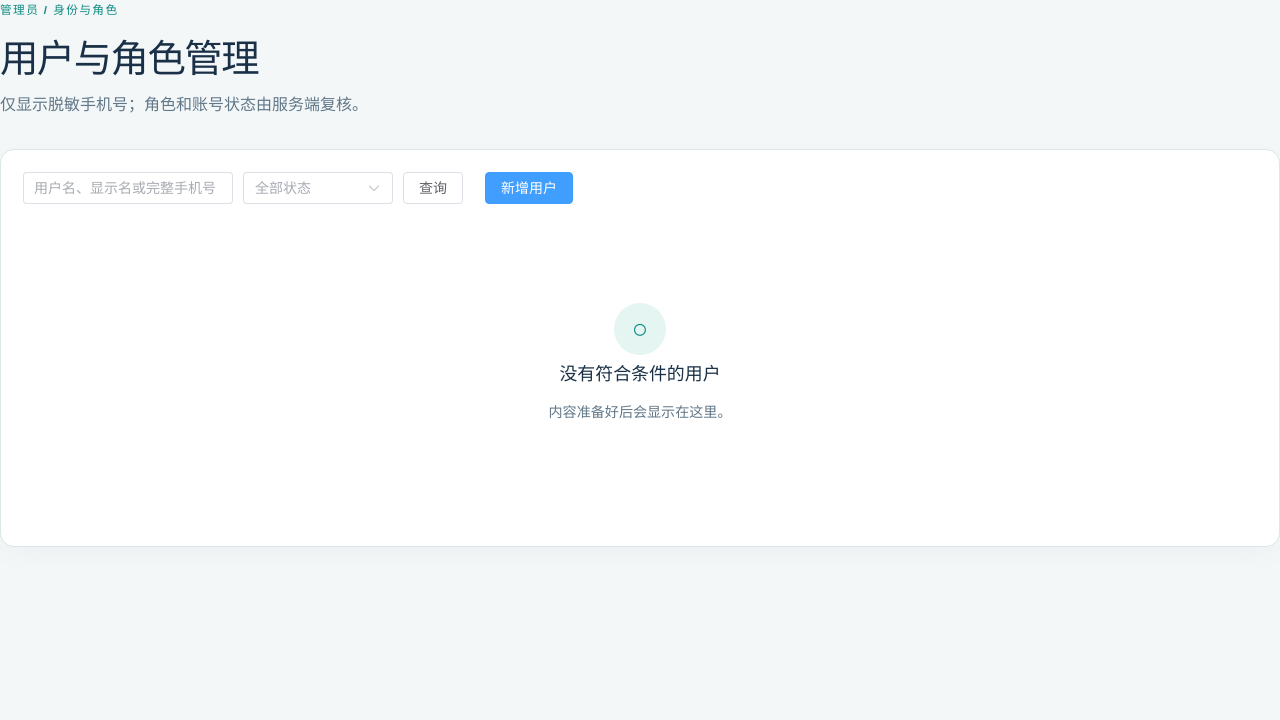
UsersView new user roles › does not create an elevated account if confirmation is cancelled and resets the next form
This screenshot has width=1280, height=720.
Click the button "新增用户" at (529, 188), box [485,172,573,204]
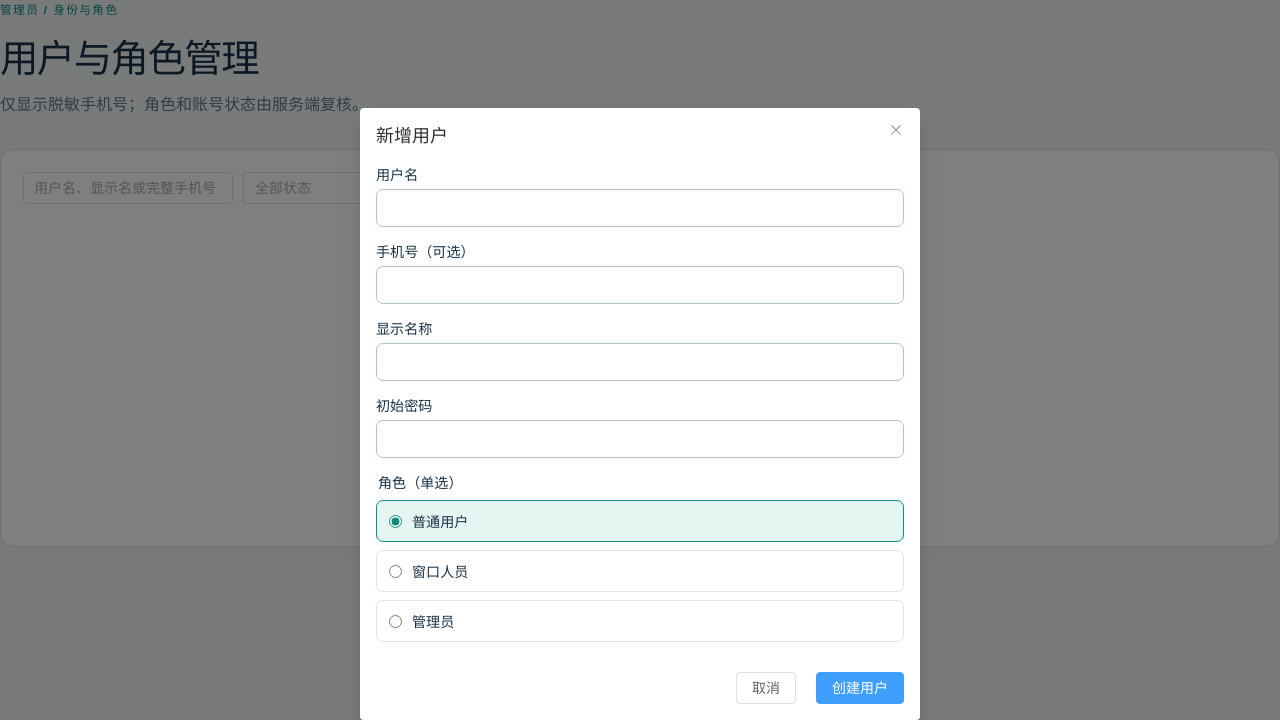
Type "demo_account" into the field labelled "用户名" at (640, 208), box [376,189,904,227]
Type "演示账号" into the field labelled "显示名称" at (640, 362), box [376,343,904,381]
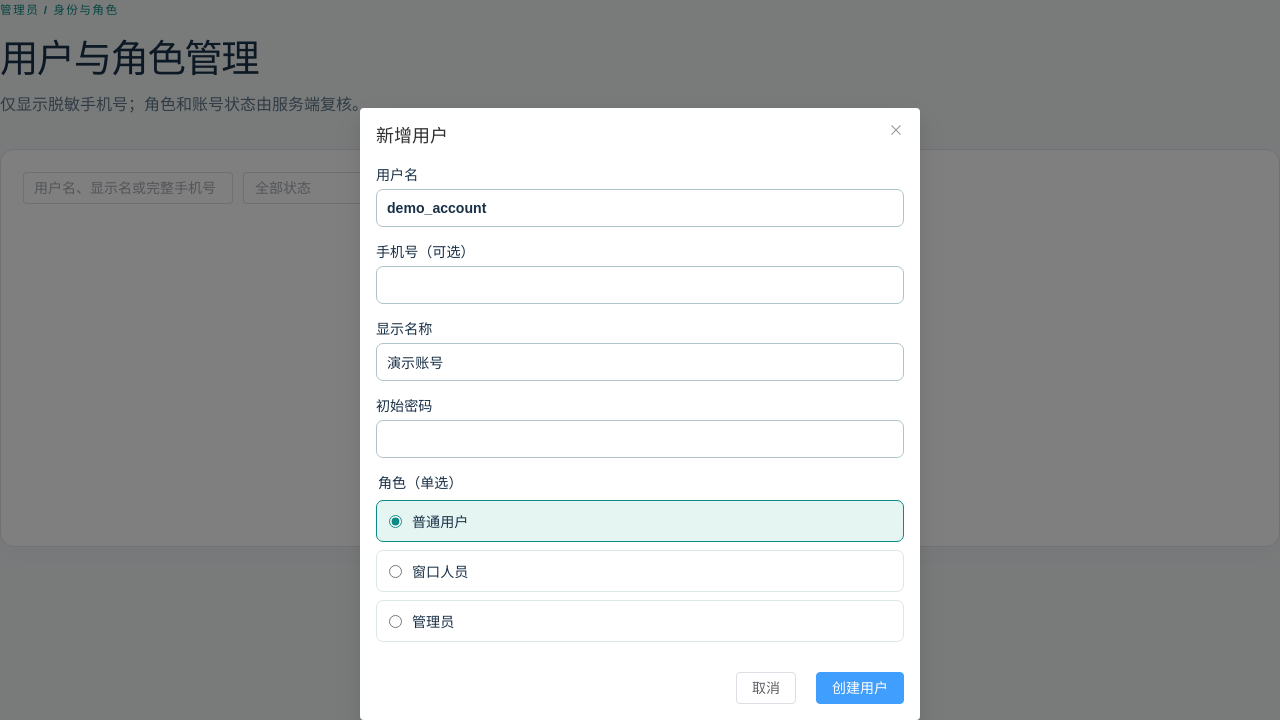
Type "fixture-password" into the password field labelled "初始密码" at (640, 439), box [376,420,904,458]
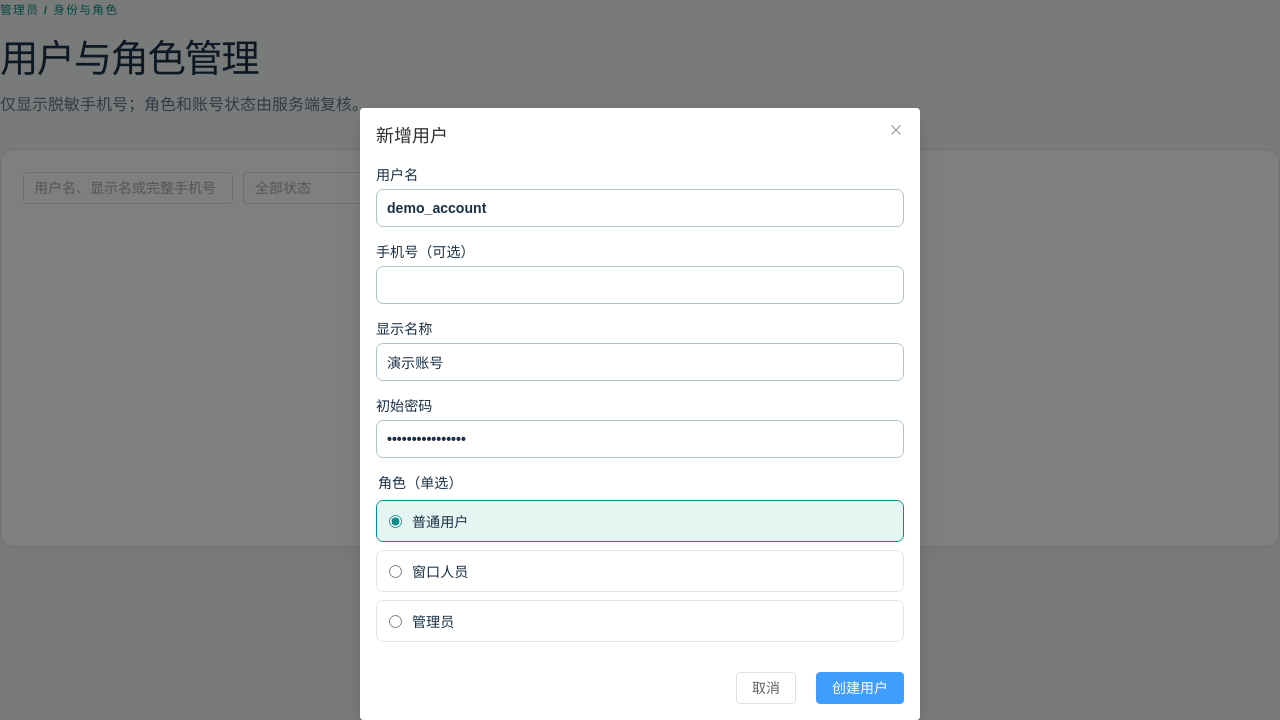
Click the radio button labelled "窗口人员" at (396, 571), box [389,564,402,578]
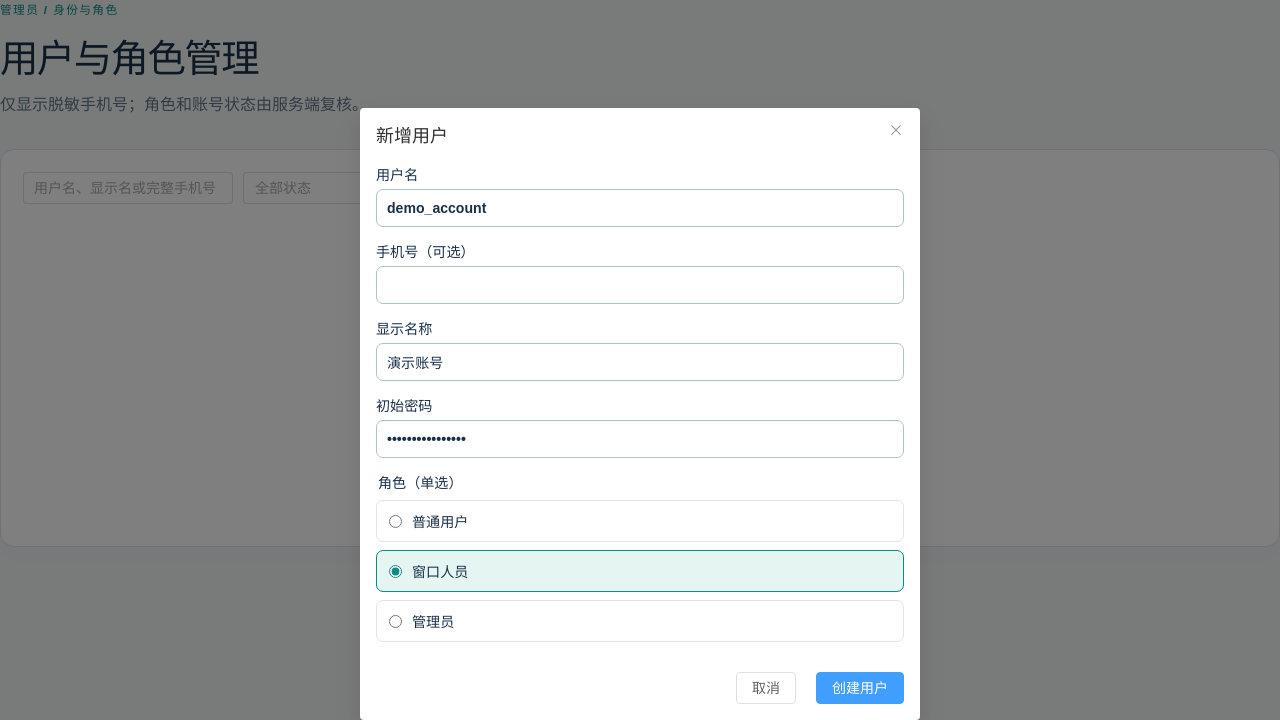
Submit the form, box [376,164,904,704]
Click the button "取消" at (766, 688), box [736,672,796,704]
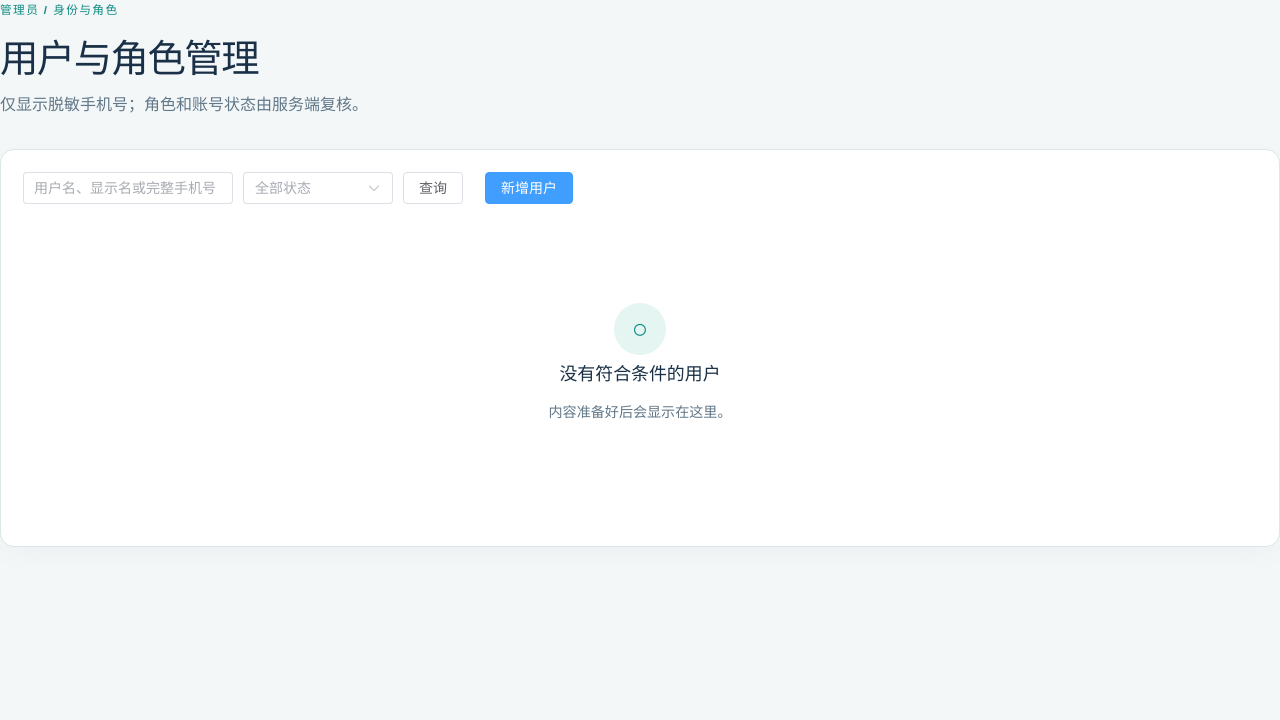
Click the button "新增用户" at (529, 188), box [485,172,573,204]
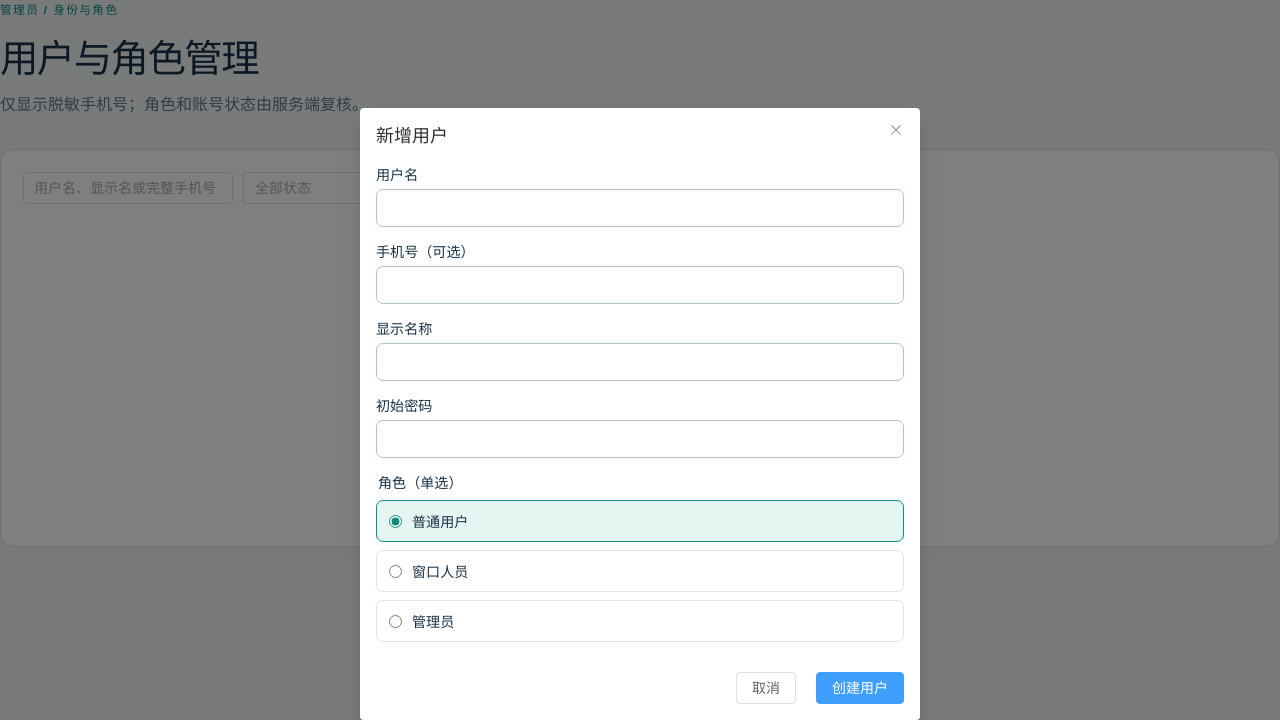
Check: the password field labelled "初始密码" is empty, box [376,420,904,458]
Check: the radio button labelled "普通用户" holds "USER", box [389,514,402,528]
